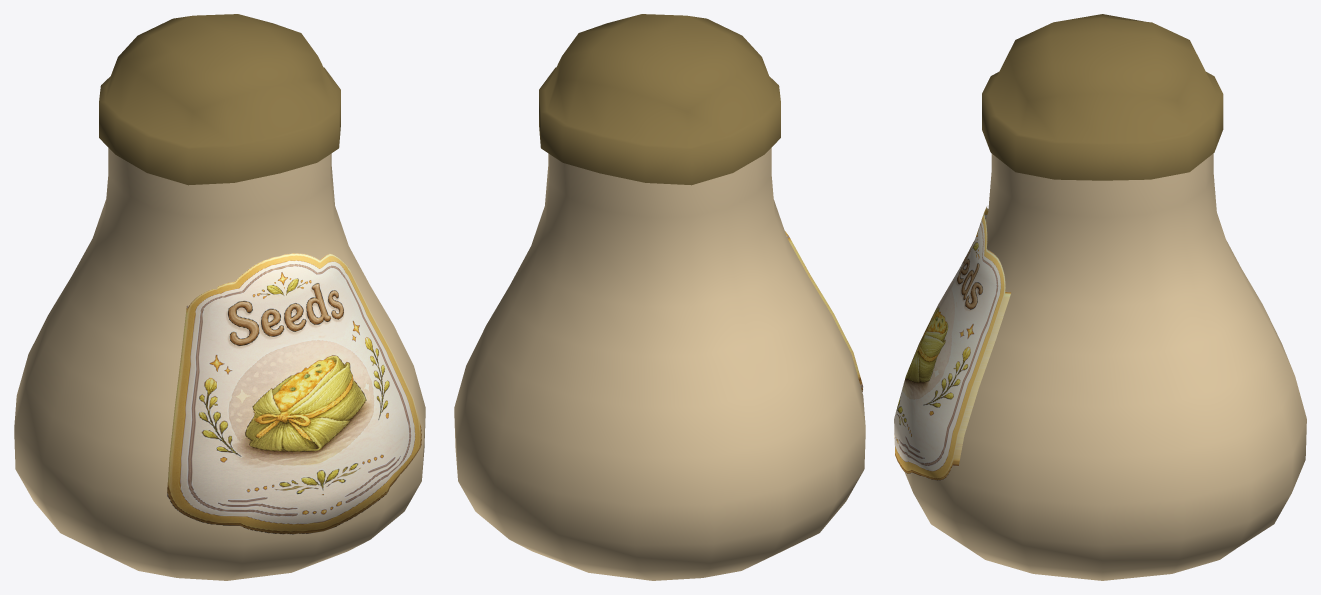
File: seed_humita.glb
The picture shows the model from 3 angles, left to right: view 1: azimuth 30°, elevation 25°; view 2: azimuth 150°, elevation 25°; view 3: azimuth 270°, elevation 25°; orthographic projection.
Parts seen in each view (by area): view 1: seed_humita; view 2: seed_humita; view 3: seed_humita.
Part boxes in pixels (left/top/right/bottom): seed_humita: left=14, top=14, right=425, bottom=580; seed_humita: left=454, top=14, right=865, bottom=580; seed_humita: left=894, top=14, right=1306, bottom=580.
Size of what is drawn, in the model's own units: 0.3161 by 0.4348 by 0.3193.
3 materials, 1 textured.
